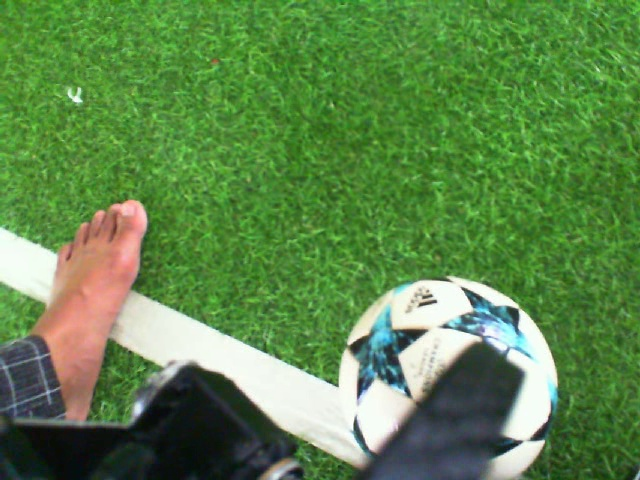ball: (337, 272, 559, 480)
